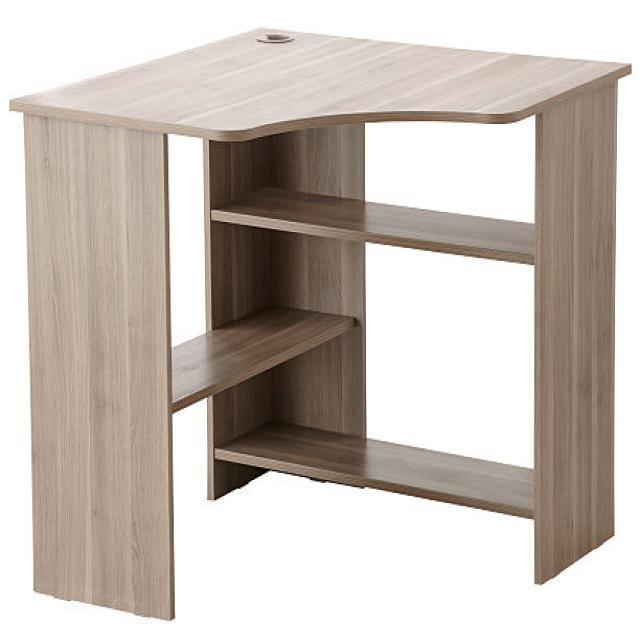table: (8, 24, 632, 620)
